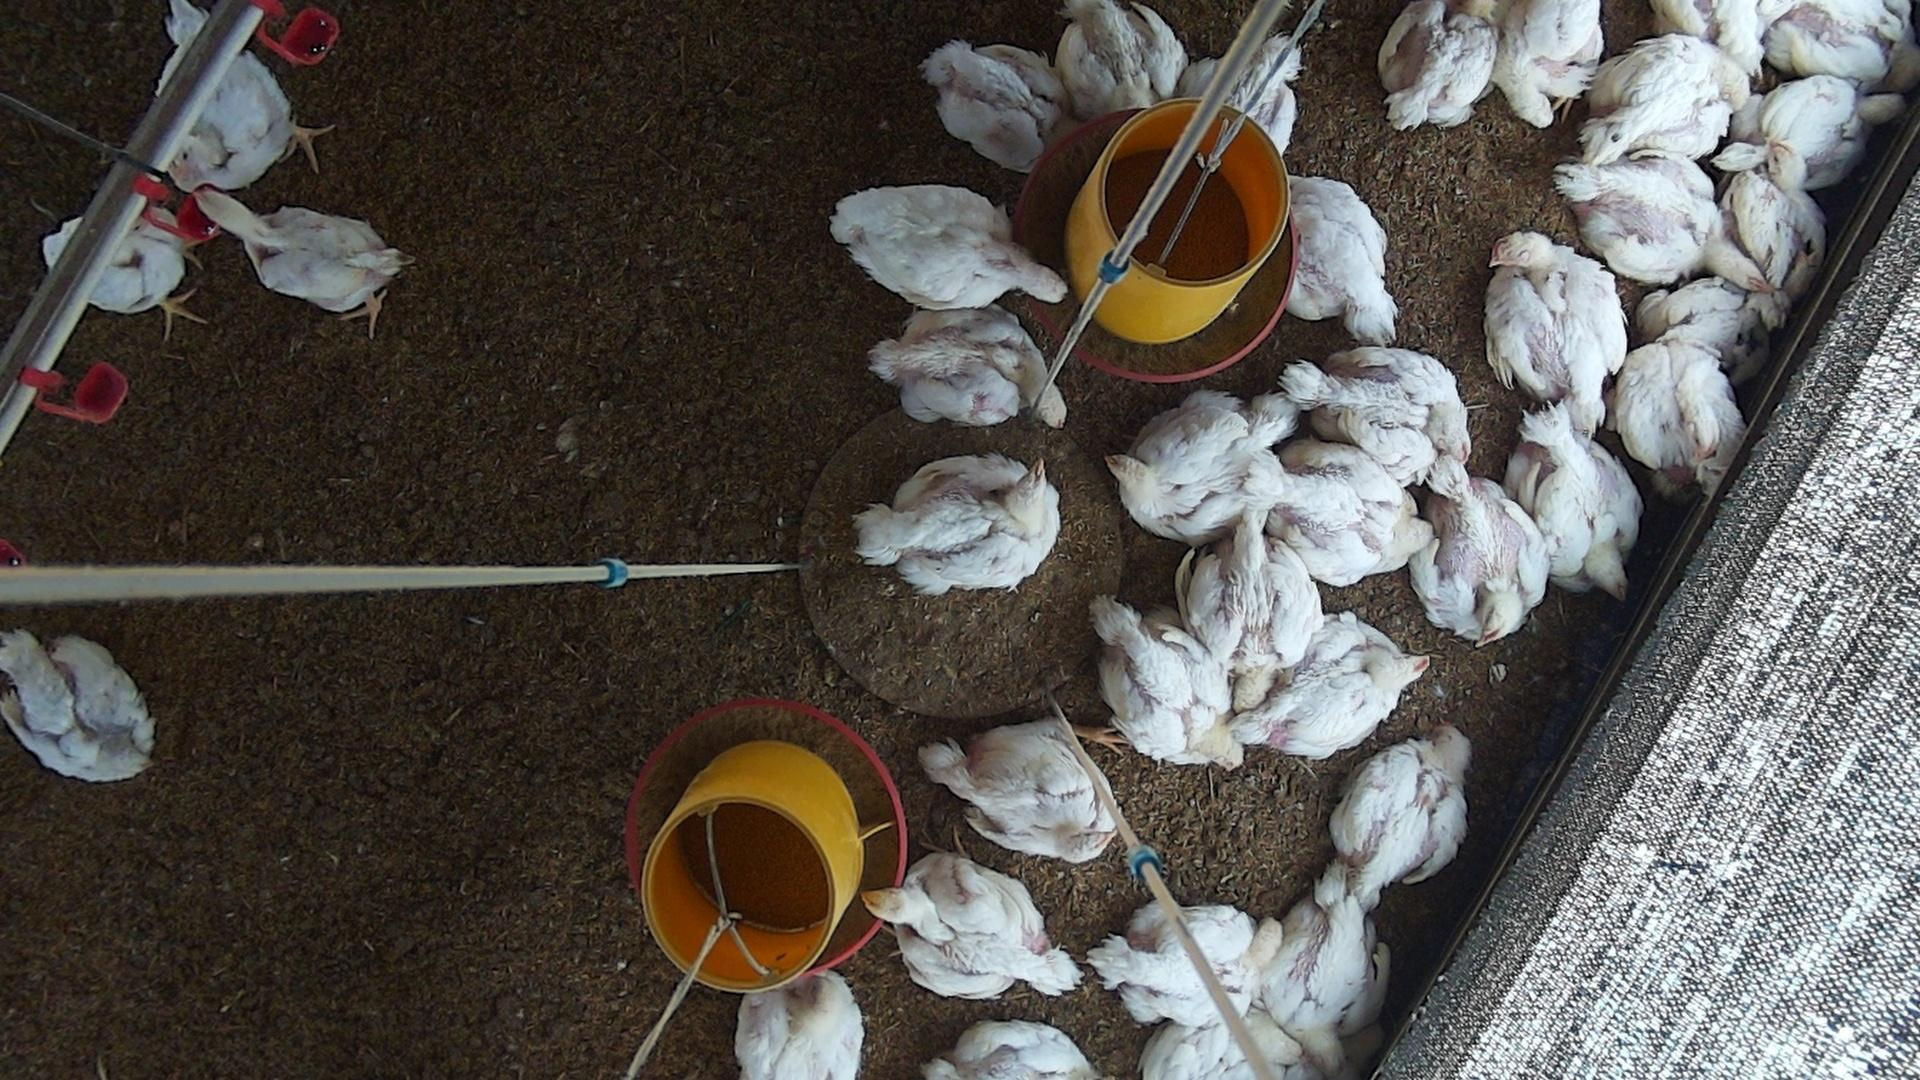ayam_broiler: (1084, 855, 1279, 1027), (865, 853, 1080, 1000), (922, 719, 1135, 865), (196, 196, 411, 342), (831, 186, 1067, 311), (1557, 158, 1772, 295), (855, 455, 1058, 596), (1182, 509, 1323, 712), (1245, 440, 1433, 588), (1484, 232, 1626, 426), (1109, 390, 1291, 542), (1283, 348, 1469, 491), (1511, 396, 1640, 595), (1412, 458, 1548, 646), (1249, 616, 1427, 760), (1254, 876, 1385, 1071), (1092, 599, 1240, 769), (1573, 28, 1755, 165), (1329, 729, 1469, 905), (0, 630, 154, 781), (866, 310, 1056, 427), (1615, 334, 1743, 500), (1721, 142, 1833, 330), (1283, 177, 1396, 345), (1182, 5, 1304, 161), (922, 41, 1063, 171), (1745, 78, 1903, 190), (1055, 1, 1185, 115), (1493, 0, 1604, 129), (1381, 4, 1494, 128), (735, 972, 862, 1080), (1141, 1013, 1300, 1080), (1764, 4, 1898, 84), (939, 1022, 1093, 1079)
